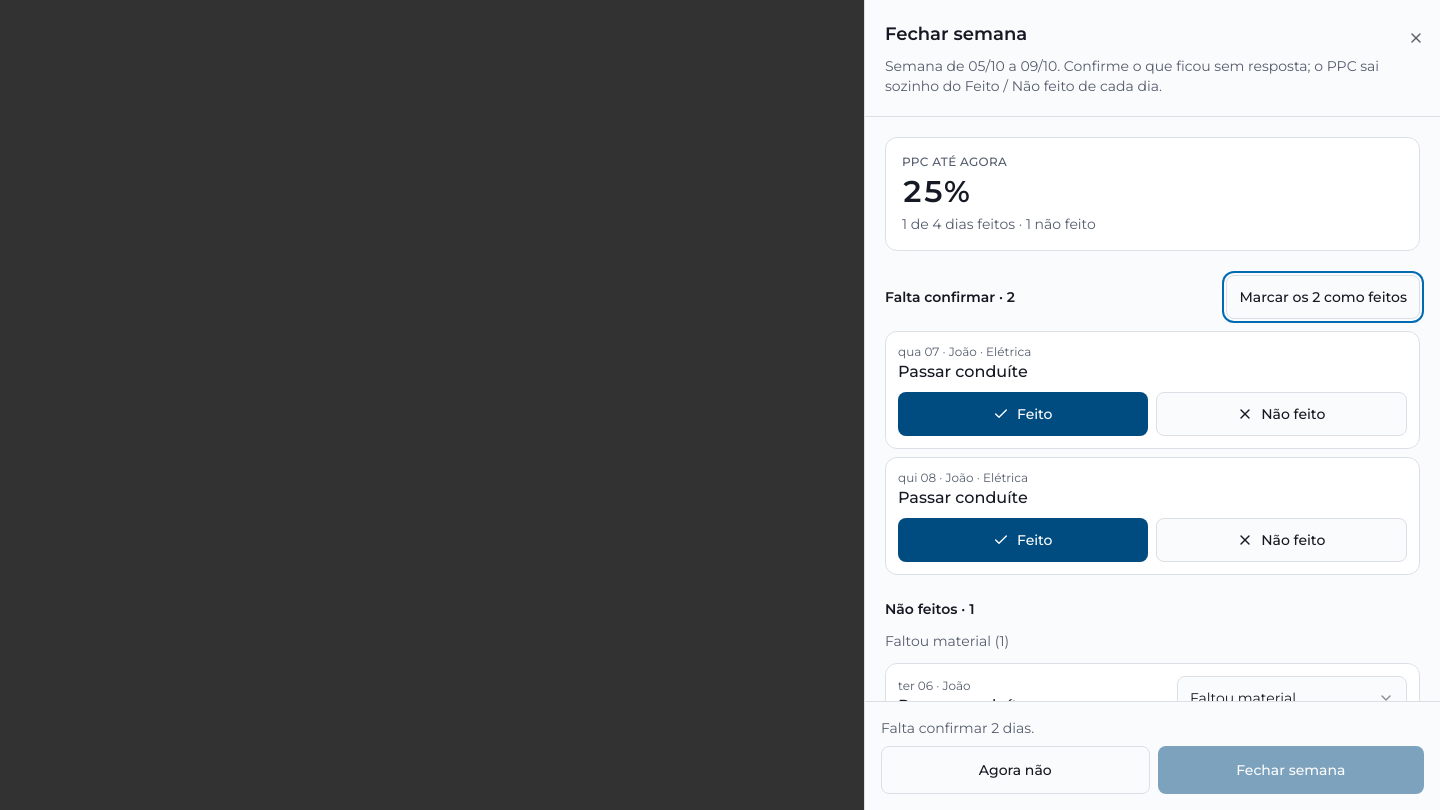
CloseWeekSheet › 'Não feito' pede o motivo (dois toques) e o dia vai para a lista de não feitos
The image size is (1440, 810).
What coordinates should you click on to do the following:
click the button with aria-label "Não feito: Passar conduíte, qui 08"
I would click on:
 (1281, 540)
Its box is [1156,518,1407,562].
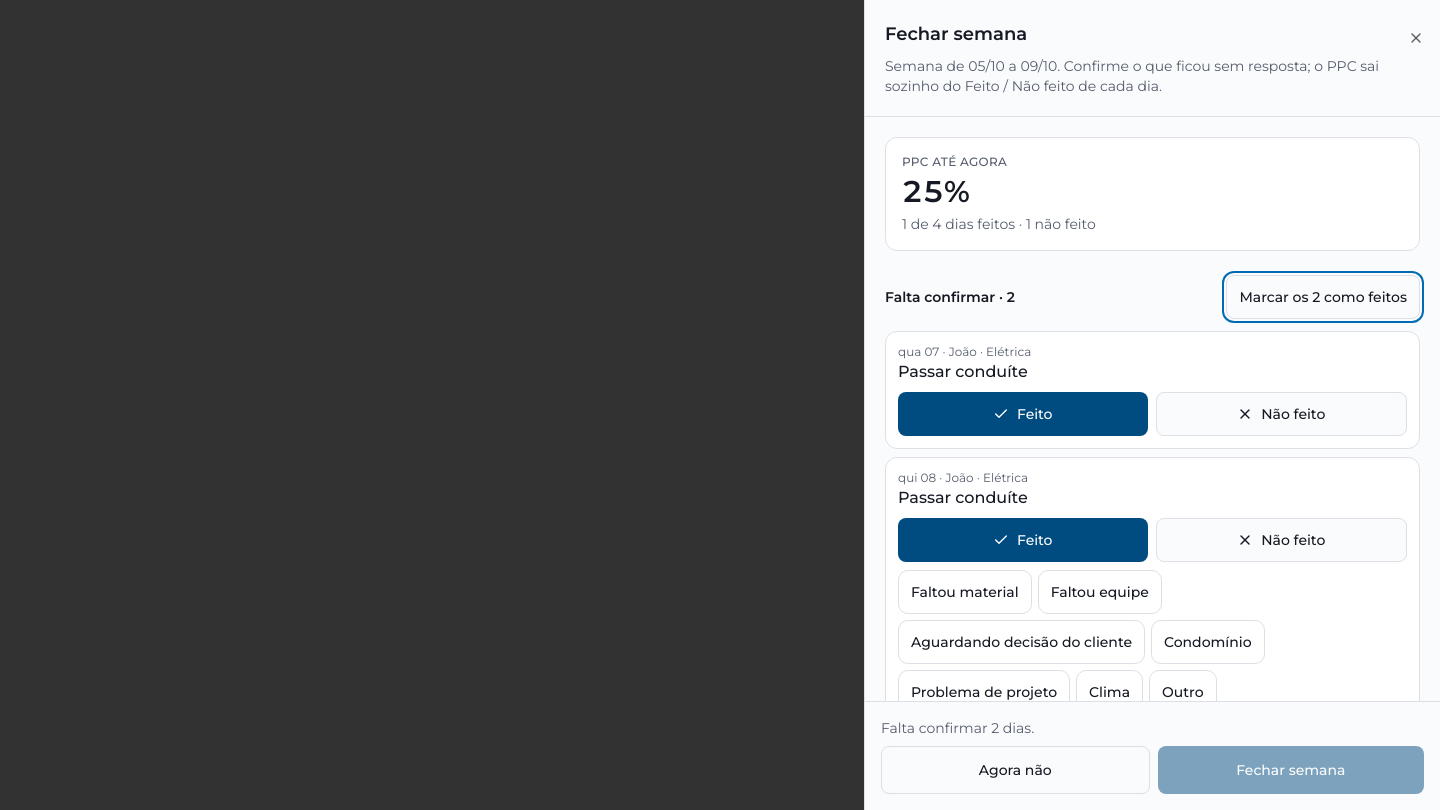
What coordinates should you click on to do the following:
click the button "Clima"
I would click on:
 (1110, 692)
Its box is [1076,670,1143,714].
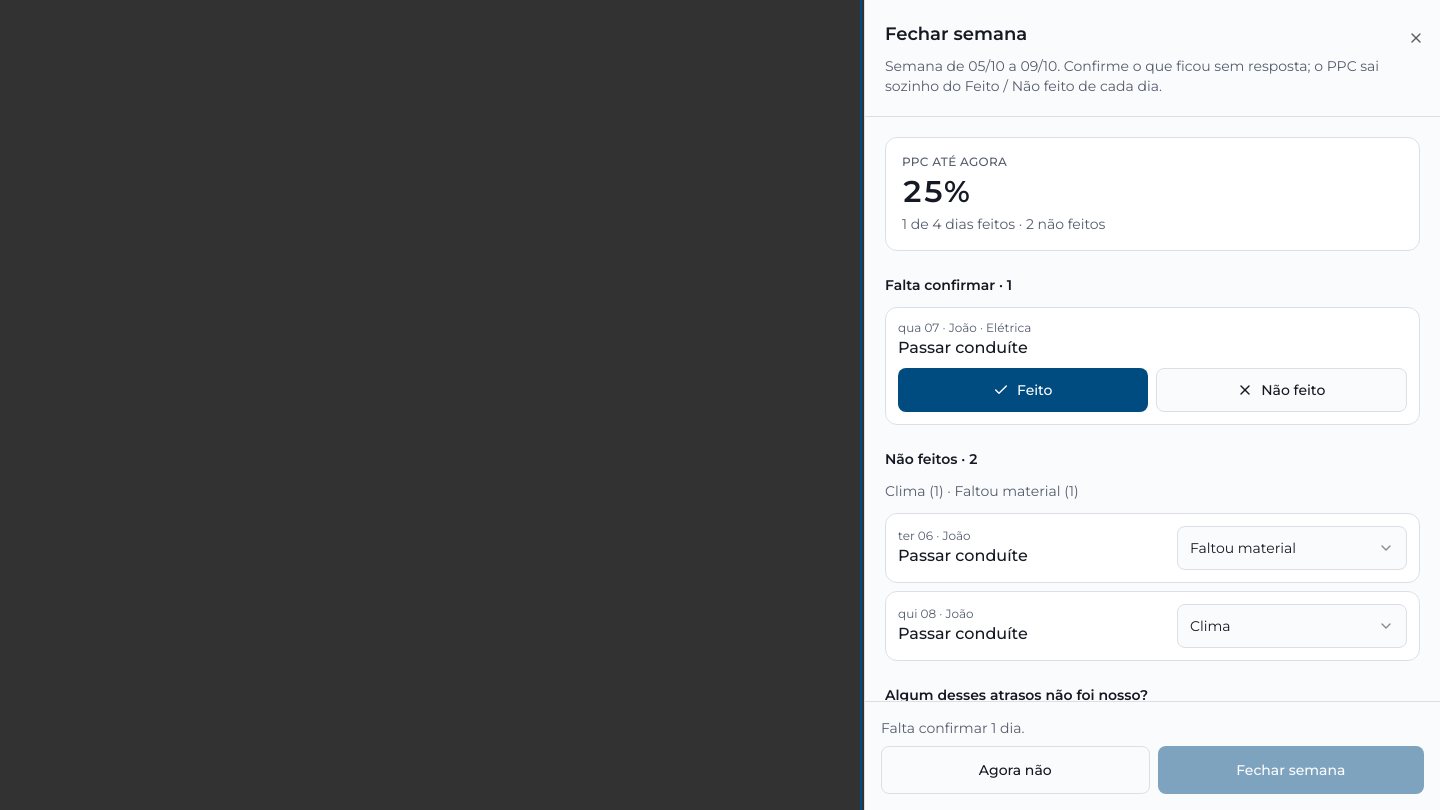
Check: the heading "Não feitos · 2" is shown, box [885,450,977,468]
Check: the text "Clima (1) · Faltou material (1)" is shown, box [885,482,1079,500]
